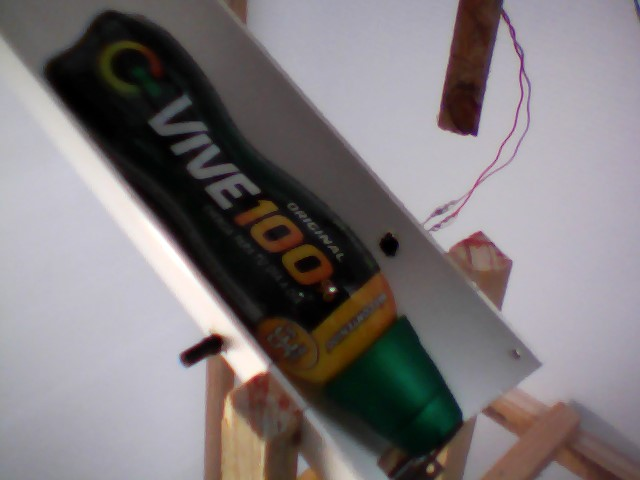plastico: (38, 5, 475, 467)
